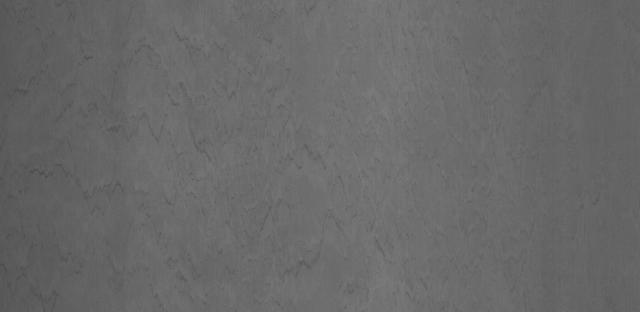silk_spot: (89, 58, 337, 182), (0, 210, 203, 300), (230, 194, 400, 293)
